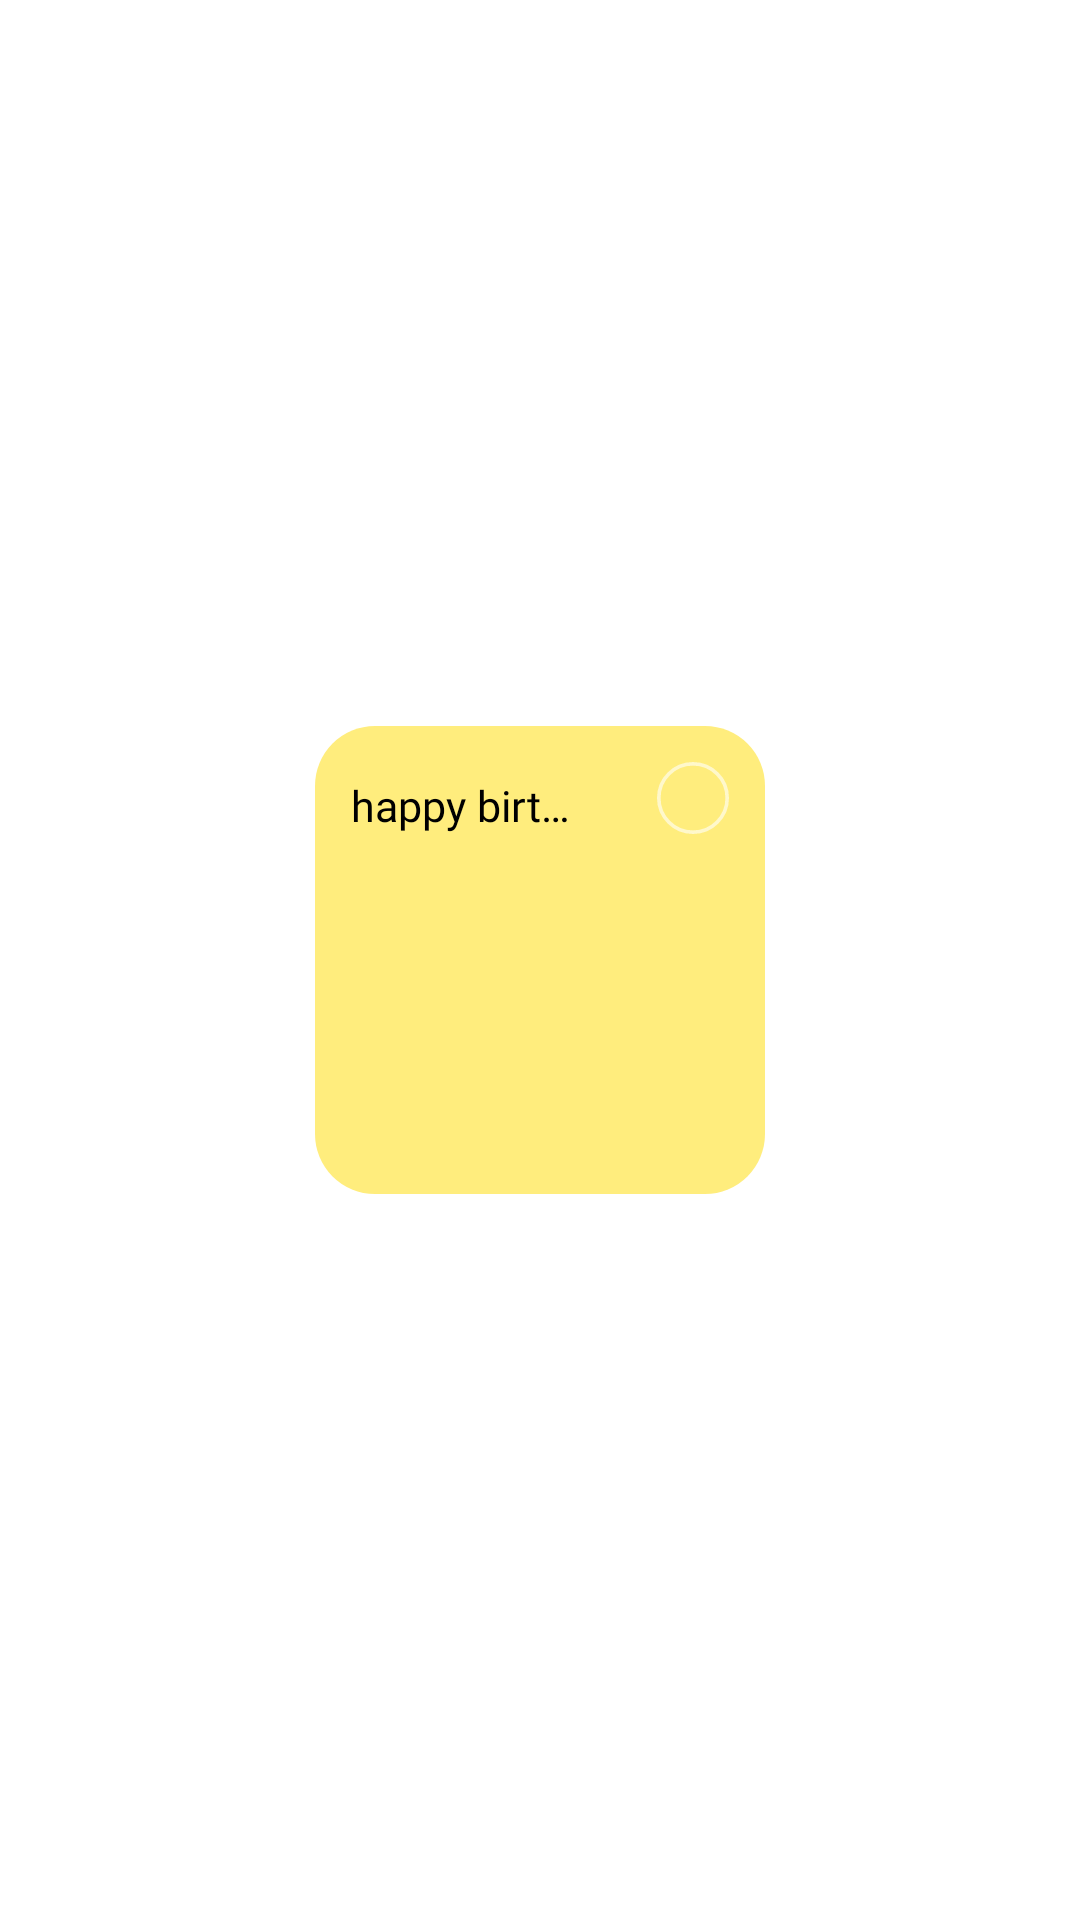

Where icons sit on this 1080*1920 app screen, as (x1=x1, y1=y1, x2=x2, y2=y2):
not selact: (x1=657, y1=762, x2=729, y2=834)
